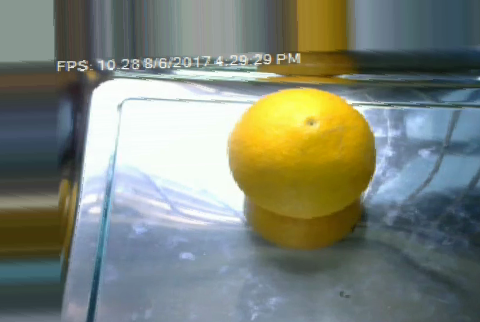Orange: (226, 86, 374, 217)
